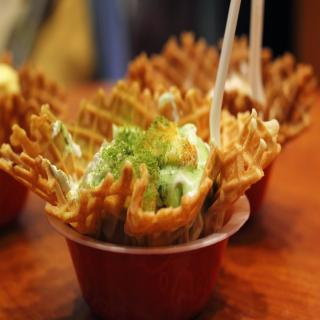Waffle: (0, 79, 281, 248), (124, 31, 318, 148), (0, 52, 73, 145)
